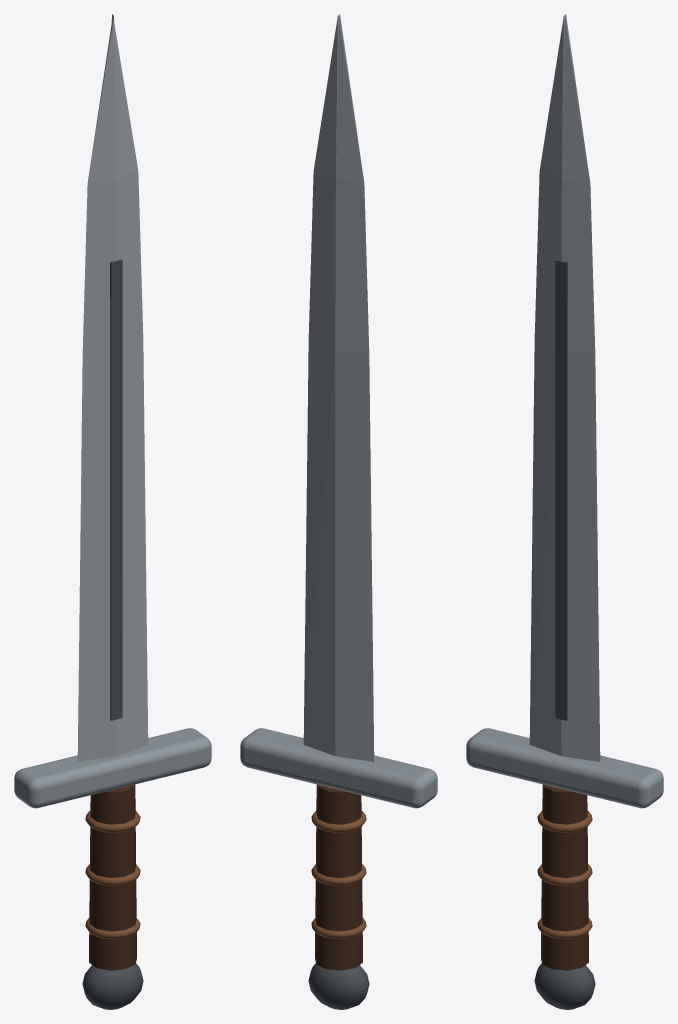
File: shortsword.glb
3 renders of one model, left to right at view 1: azimuth 30°, elevation 25°; view 2: azimuth 150°, elevation 25°; view 3: azimuth 330°, elevation 25°, orthographic.
Parts seen in each view (by area): view 1: shortsword-blade, shortsword-crossguard, shortsword-grip, shortsword-fuller, shortsword-pommel, shortsword-grip-wrap (×3); view 2: shortsword-blade, shortsword-crossguard, shortsword-grip, shortsword-pommel, shortsword-grip-wrap (×3); view 3: shortsword-blade, shortsword-crossguard, shortsword-grip, shortsword-fuller, shortsword-pommel, shortsword-grip-wrap (×3).
Boxes of the visible parts, left/top/right/bottom form: shortsword-blade: left=77, top=14, right=148, bottom=761; shortsword-crossguard: left=14, top=728, right=211, bottom=808; shortsword-grip: left=89, top=784, right=136, bottom=970; shortsword-fuller: left=110, top=259, right=122, bottom=720; shortsword-pommel: left=82, top=963, right=143, bottom=1009; shortsword-grip-wrap (×3): left=85, top=810, right=140, bottom=938; shortsword-blade: left=303, top=14, right=374, bottom=761; shortsword-crossguard: left=240, top=728, right=437, bottom=808; shortsword-grip: left=315, top=784, right=362, bottom=970; shortsword-pommel: left=308, top=963, right=369, bottom=1009; shortsword-grip-wrap (×3): left=311, top=810, right=366, bottom=938; shortsword-blade: left=529, top=14, right=600, bottom=761; shortsword-crossguard: left=466, top=728, right=663, bottom=808; shortsword-grip: left=541, top=784, right=588, bottom=970; shortsword-fuller: left=555, top=259, right=567, bottom=720; shortsword-pommel: left=534, top=963, right=595, bottom=1009; shortsword-grip-wrap (×3): left=537, top=810, right=592, bottom=938.
Bounding box in the file's own units: 0.1011 × 0.5227 × 0.0266.
